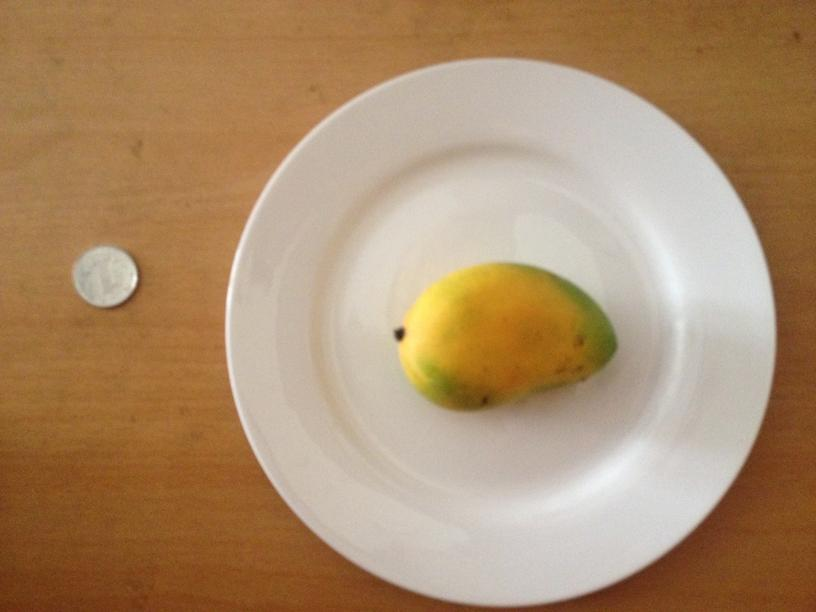coin: (72, 246, 136, 307)
mango: (396, 261, 616, 410)
